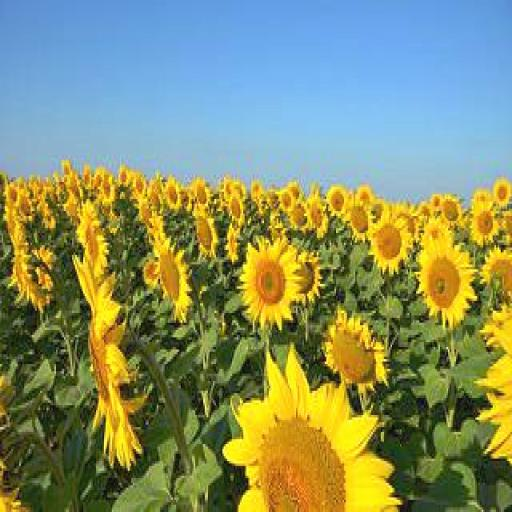sunflower: (224, 352, 402, 512), (74, 260, 140, 466), (237, 233, 299, 332), (322, 306, 387, 390), (414, 242, 474, 328), (152, 230, 189, 322), (77, 199, 109, 277), (370, 214, 410, 272), (290, 250, 322, 303), (481, 247, 512, 298), (342, 194, 373, 245), (470, 201, 502, 245), (192, 209, 218, 262), (307, 199, 331, 235), (325, 184, 347, 216), (163, 177, 181, 211), (288, 199, 307, 230), (194, 177, 211, 211), (227, 192, 243, 223)
